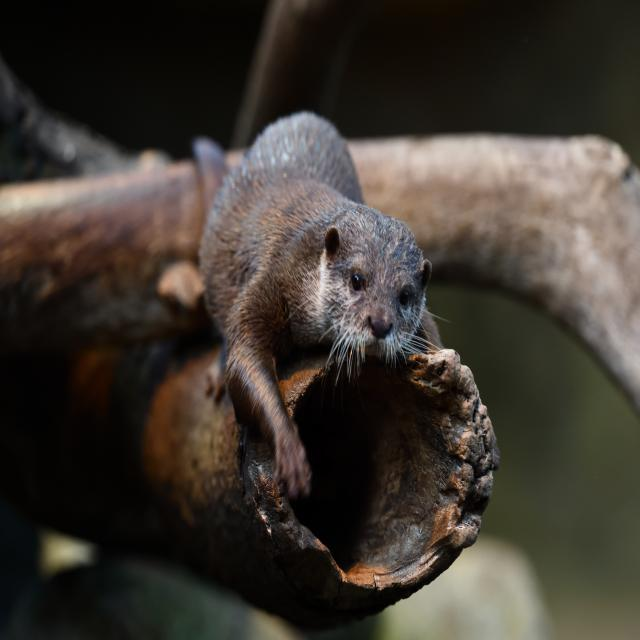otter: (214, 114, 430, 403)
